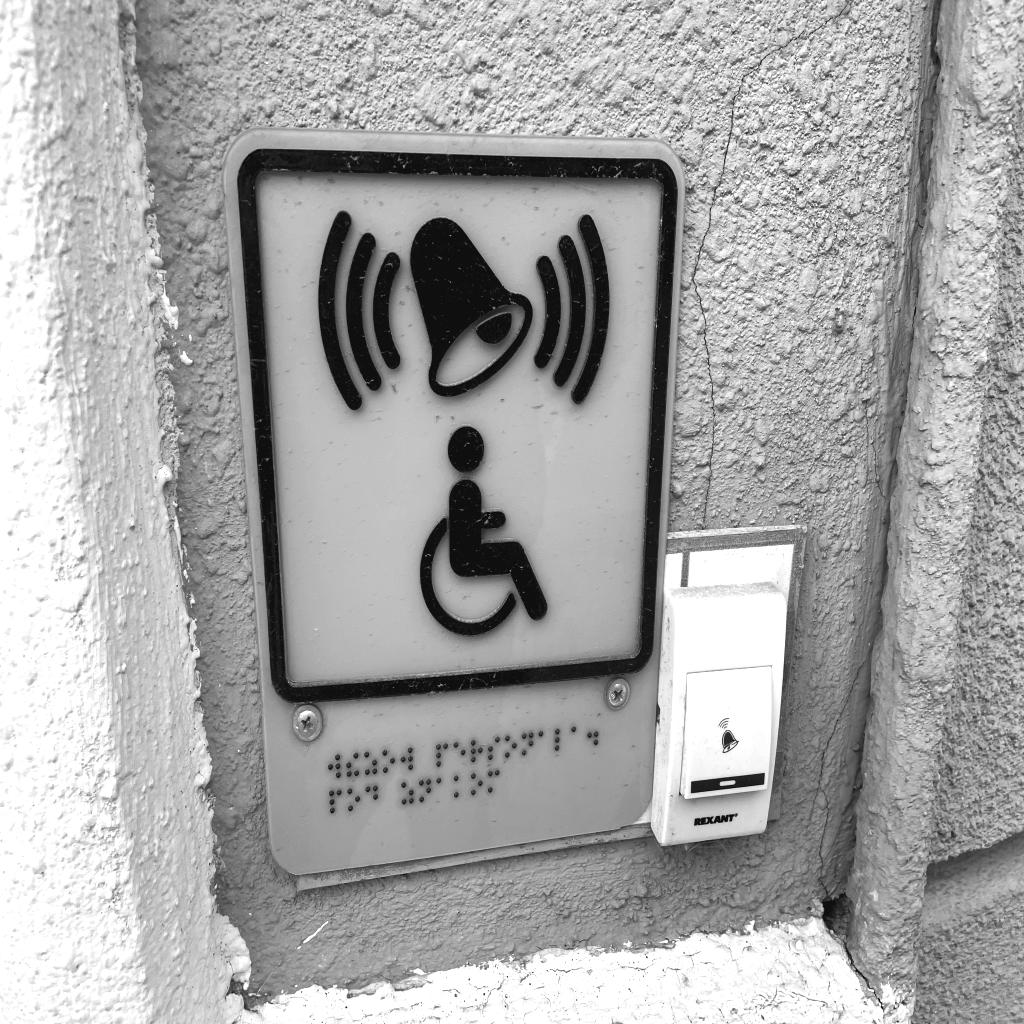_n: (419, 778, 432, 803), (522, 732, 534, 756)
a: (539, 730, 551, 754), (436, 777, 448, 801), (571, 725, 583, 748)
d: (365, 785, 378, 810)
e: (453, 741, 466, 765)
ii: (346, 752, 359, 778)
k: (454, 775, 465, 798)
l: (554, 728, 567, 751)
m: (488, 769, 500, 793)
o: (382, 749, 395, 774), (347, 788, 360, 811), (471, 772, 483, 796), (505, 735, 517, 758)
p: (436, 742, 448, 767), (329, 789, 341, 814)
r: (471, 739, 483, 762)
s: (488, 736, 500, 760)
tochka: (587, 723, 599, 746)
v: (328, 754, 341, 779), (401, 746, 414, 771)
z: (364, 751, 377, 775), (401, 782, 414, 805)
